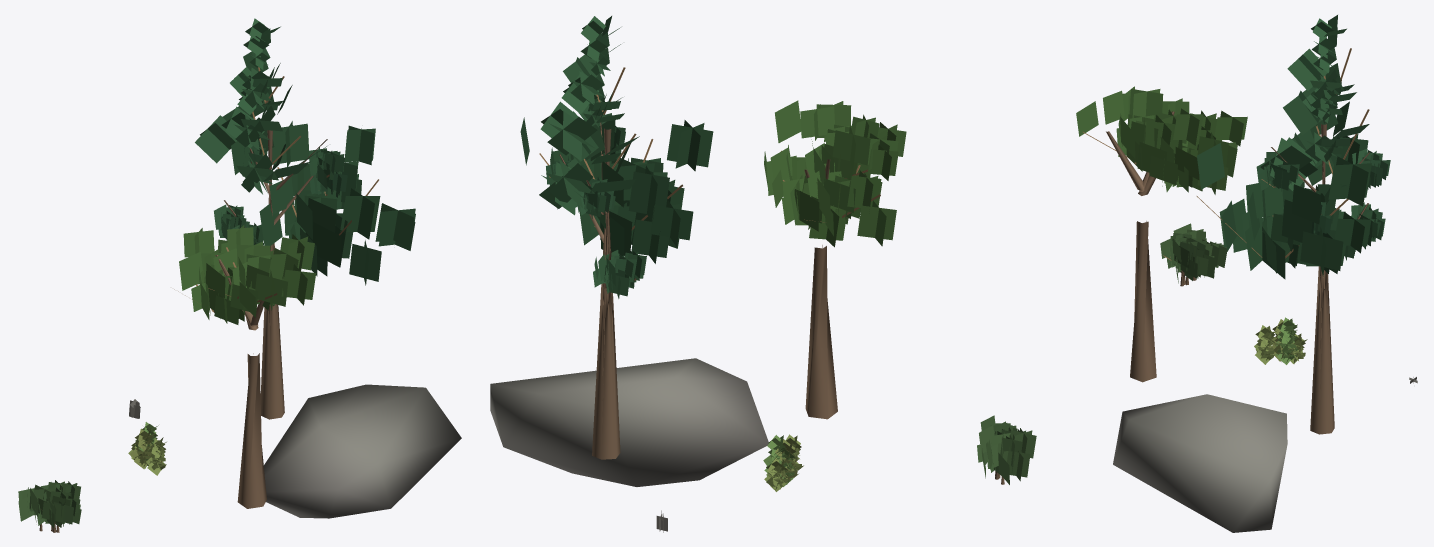
The model's file is arch_land_scatter_c18_20.glb.
3 views of the same model, side by side, from view 1: azimuth 30°, elevation 25°; view 2: azimuth 150°, elevation 25°; view 3: azimuth 270°, elevation 25° (orthographic). The views are drawn at different scales.
Visible parts, largest first — view 1: arch_land_scatter_c18_20; view 2: arch_land_scatter_c18_20; view 3: arch_land_scatter_c18_20.
Boxes of the visible parts, x1,y1,x2,y2 form: arch_land_scatter_c18_20: [18, 18, 461, 532]; arch_land_scatter_c18_20: [490, 16, 1036, 532]; arch_land_scatter_c18_20: [1076, 15, 1417, 532].
Bounding box in the file's own units: 12.92 × 11.85 × 8.24.
